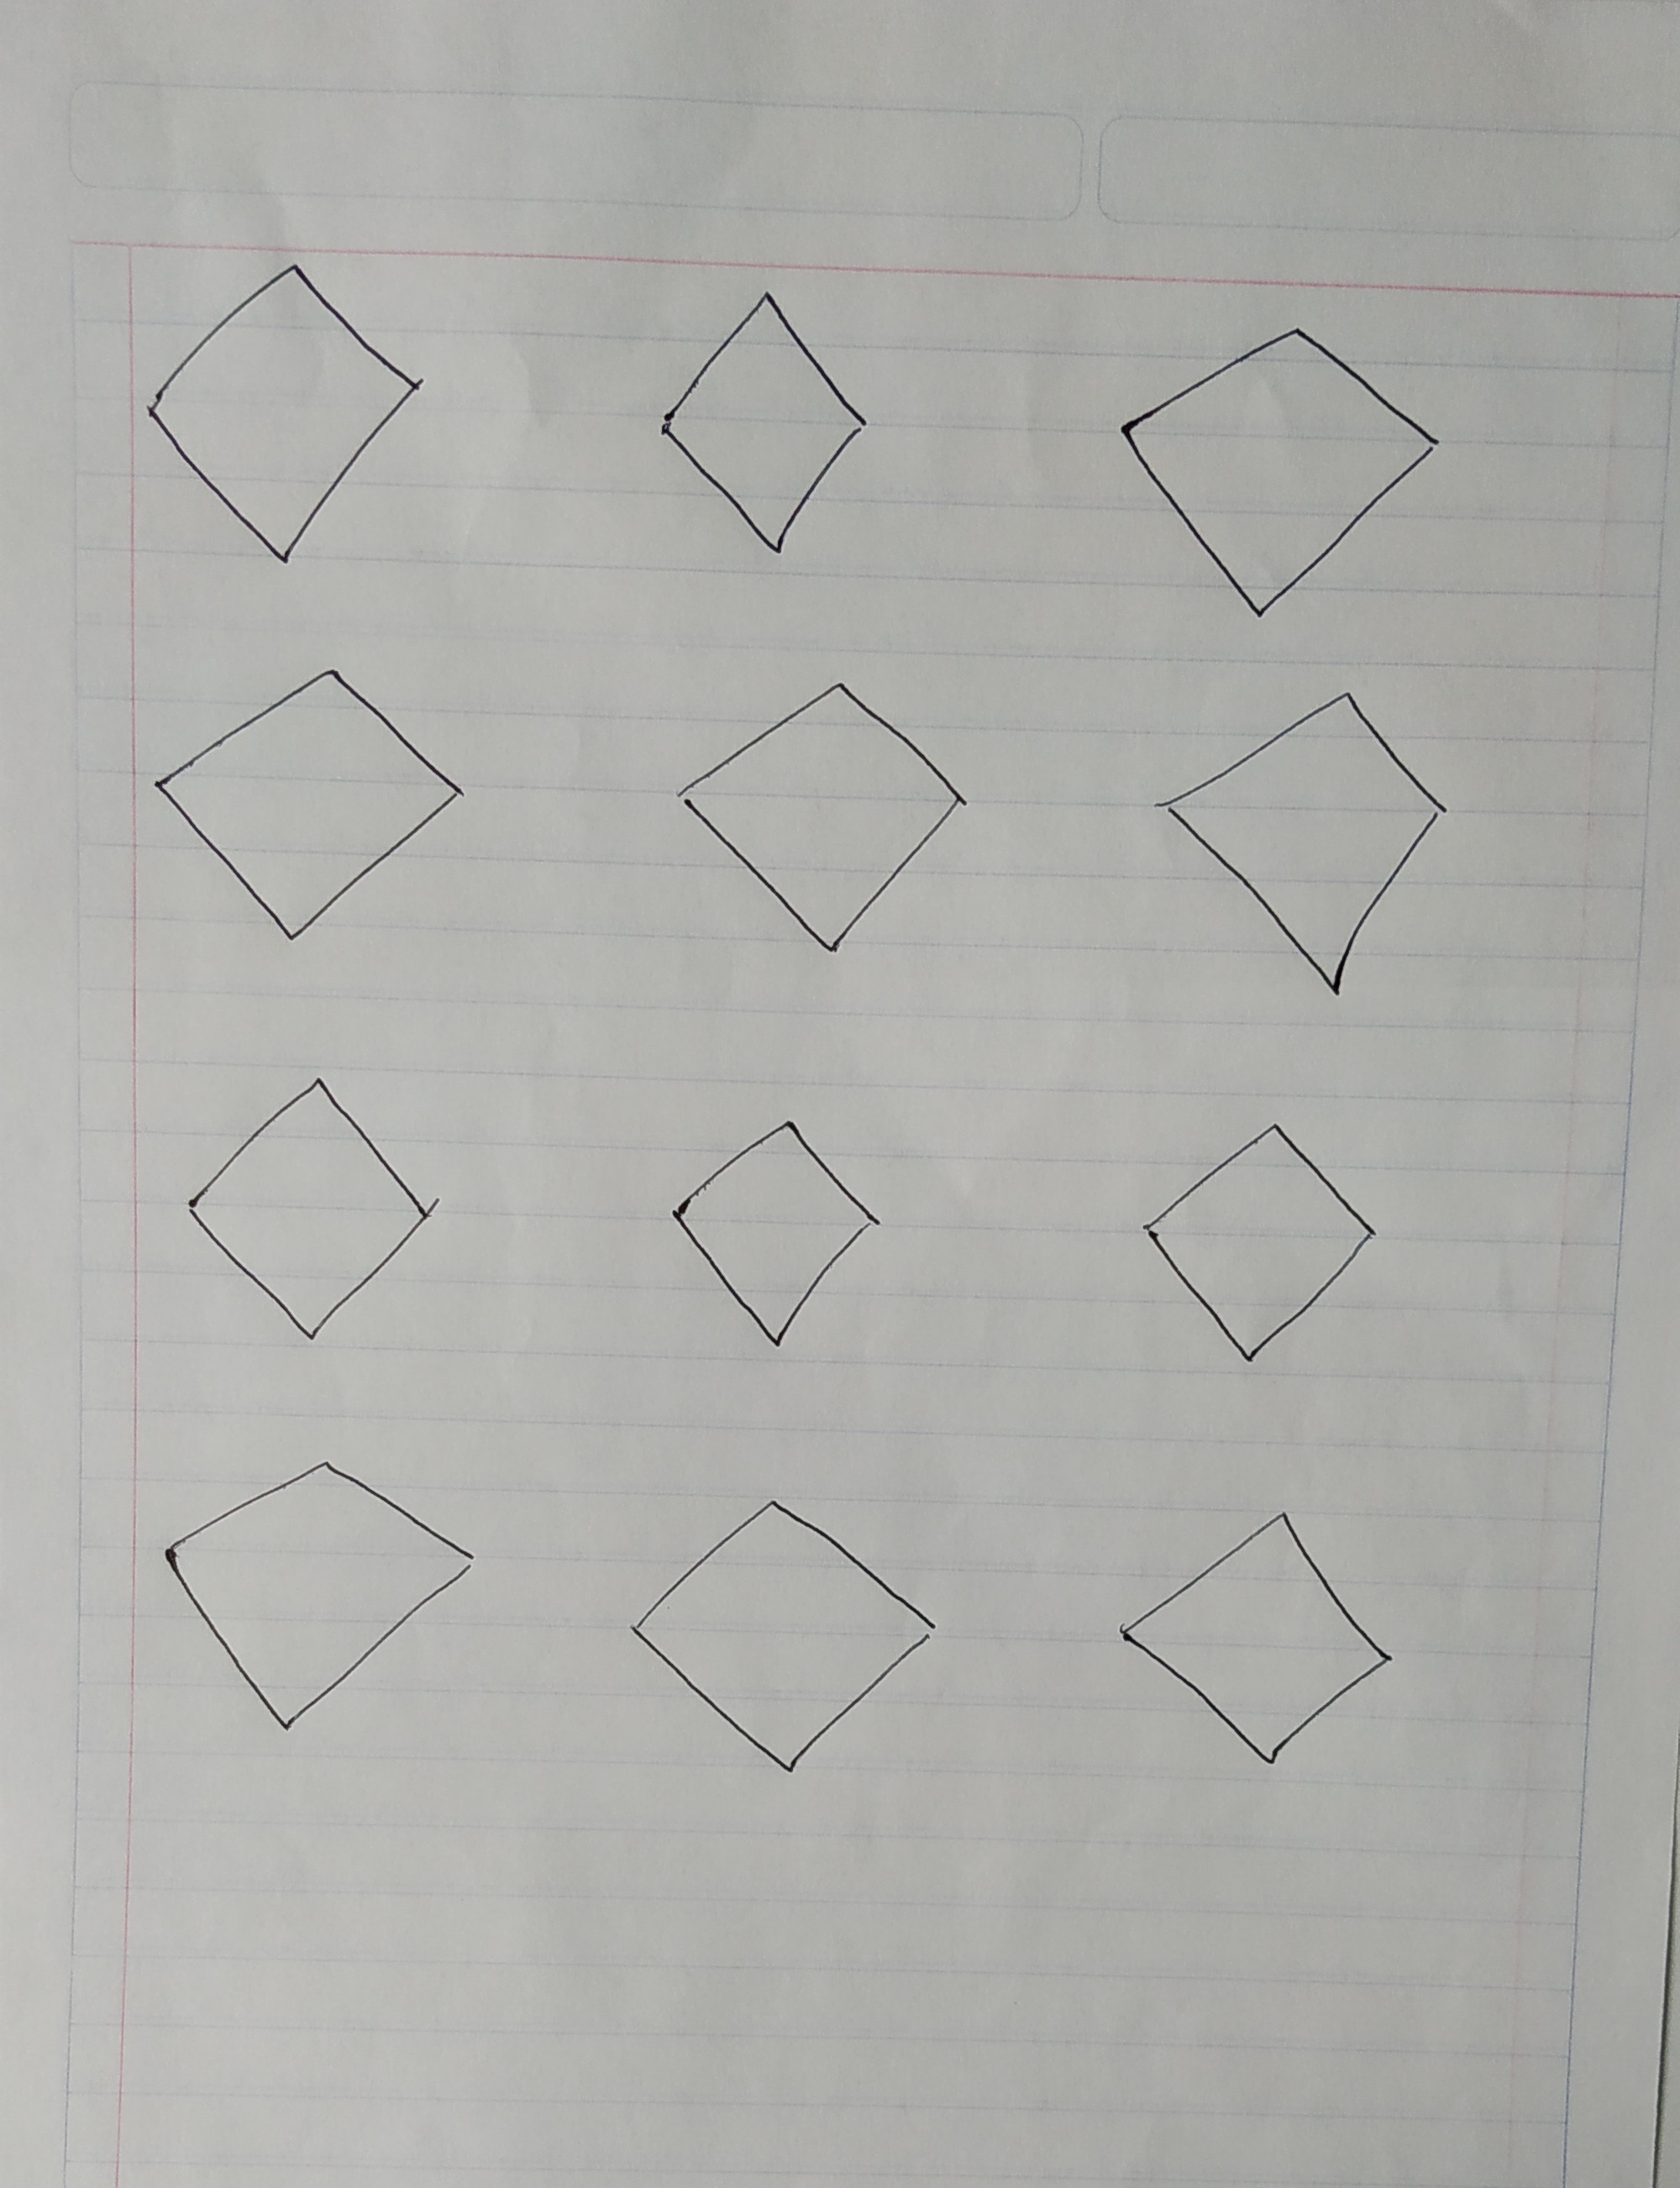decision: (1112, 323, 1444, 623), (1158, 683, 1451, 1008), (146, 663, 469, 948), (159, 1456, 478, 1736), (623, 1500, 937, 1777), (143, 259, 420, 570), (671, 674, 971, 960), (1112, 1503, 1398, 1775), (178, 1075, 436, 1341), (1136, 1113, 1382, 1366), (653, 282, 870, 563), (664, 1113, 882, 1355)
